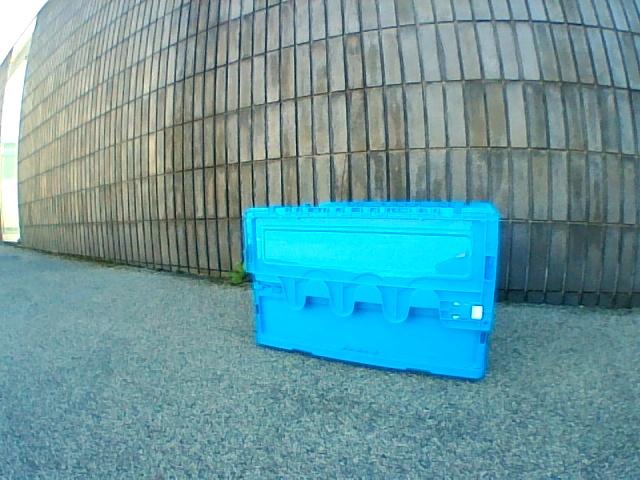blue_box: (244, 202, 499, 379)
